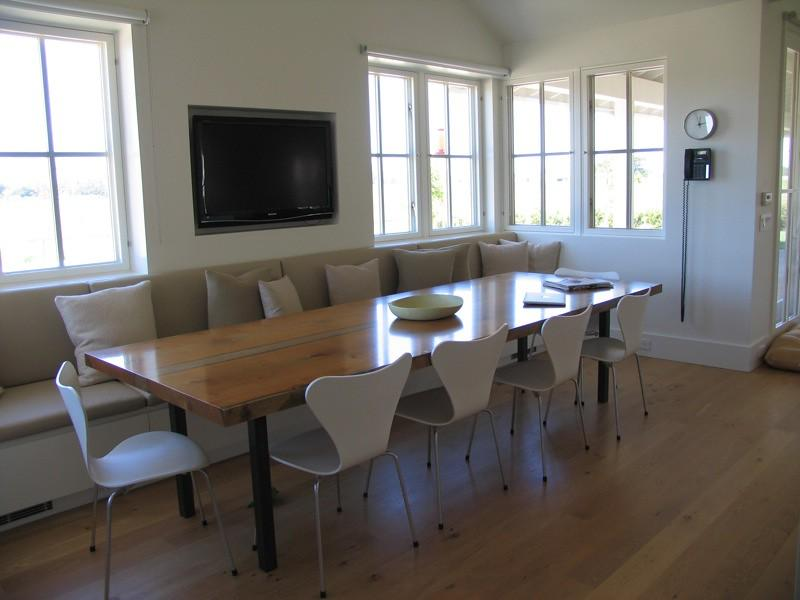table: (84, 270, 663, 572)
